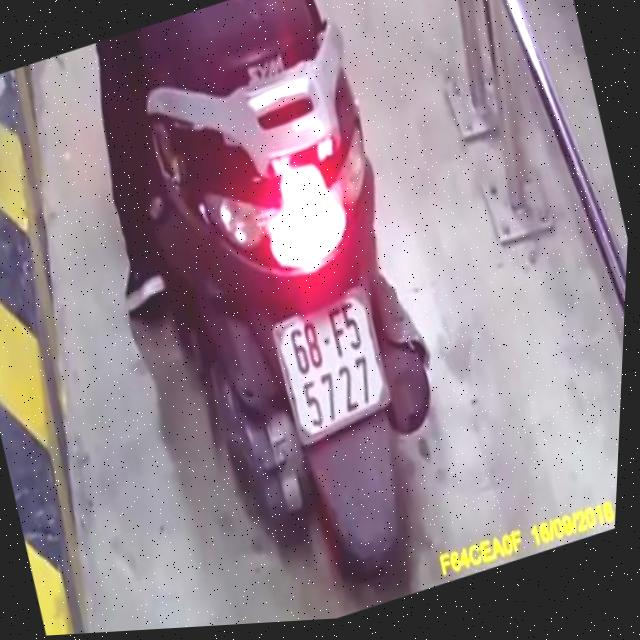motorcycle: (55, 0, 518, 635)
plate: (260, 276, 407, 448)
